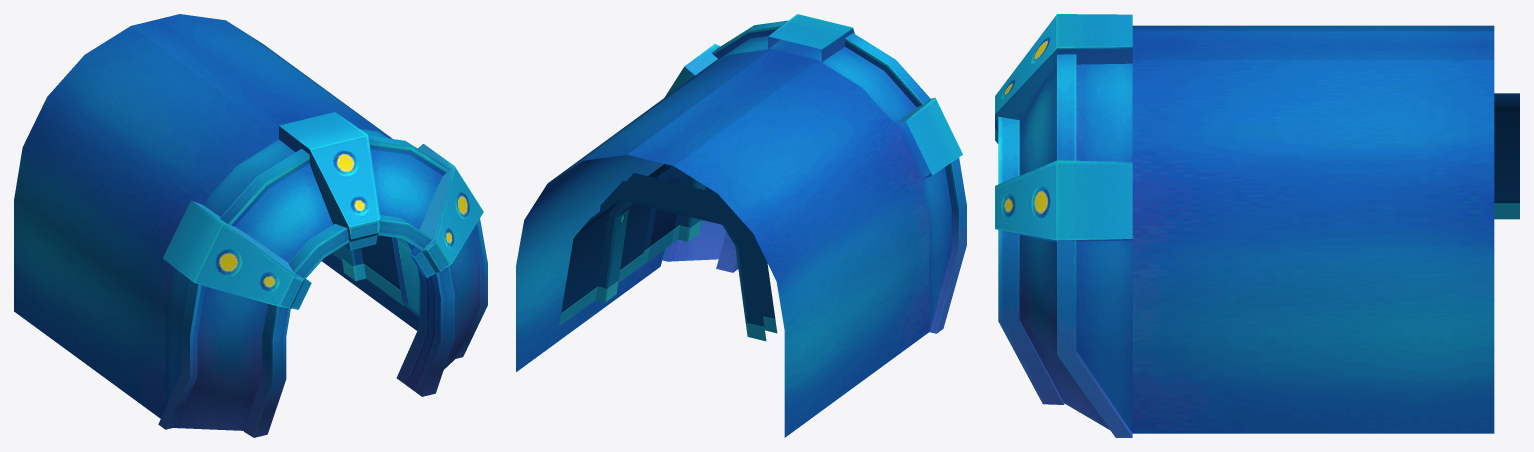
Rendered from cj_suidao1.fbx.
3 renders of one model, left to right at view 1: azimuth 30°, elevation 25°; view 2: azimuth 150°, elevation 25°; view 3: azimuth 270°, elevation 25°, orthographic. The views are drawn at different scales.
Parts seen in each view (by area): view 1: suidao_wai, polySurface2, suidao_nei; view 2: suidao_wai, polySurface2, suidao_nei; view 3: suidao_wai, polySurface2, suidao_nei.
Boxes of the visible parts, x1=… form: suidao_wai: x1=14, y1=14, x2=419, y2=418; polySurface2: x1=158, y1=112, x2=487, y2=437; suidao_nei: x1=332, y1=235, x2=402, y2=305; suidao_wai: x1=516, y1=49, x2=929, y2=437; polySurface2: x1=660, y1=14, x2=966, y2=333; suidao_nei: x1=559, y1=164, x2=777, y2=341; suidao_wai: x1=1132, y1=25, x2=1494, y2=433; polySurface2: x1=995, y1=14, x2=1132, y2=437; suidao_nei: x1=1494, y1=93, x2=1519, y2=219.
Size of the model in its own units: 3501 by 3028 by 4491.
